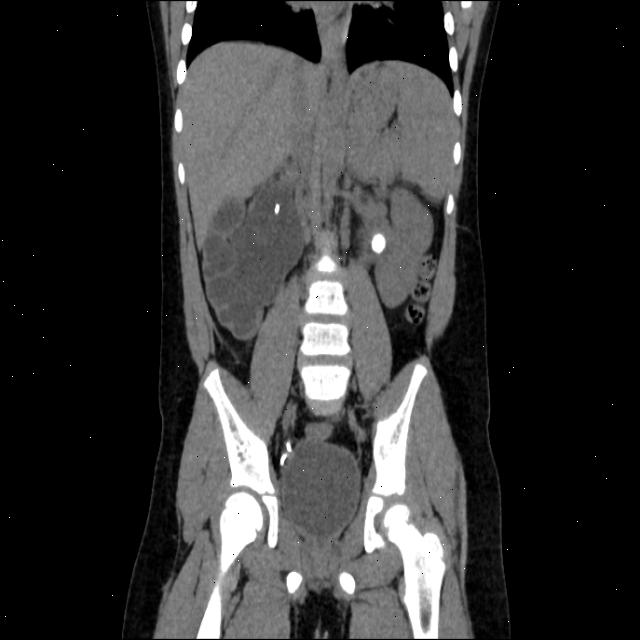kidneystone: (372, 235, 385, 252), (274, 203, 280, 215)
